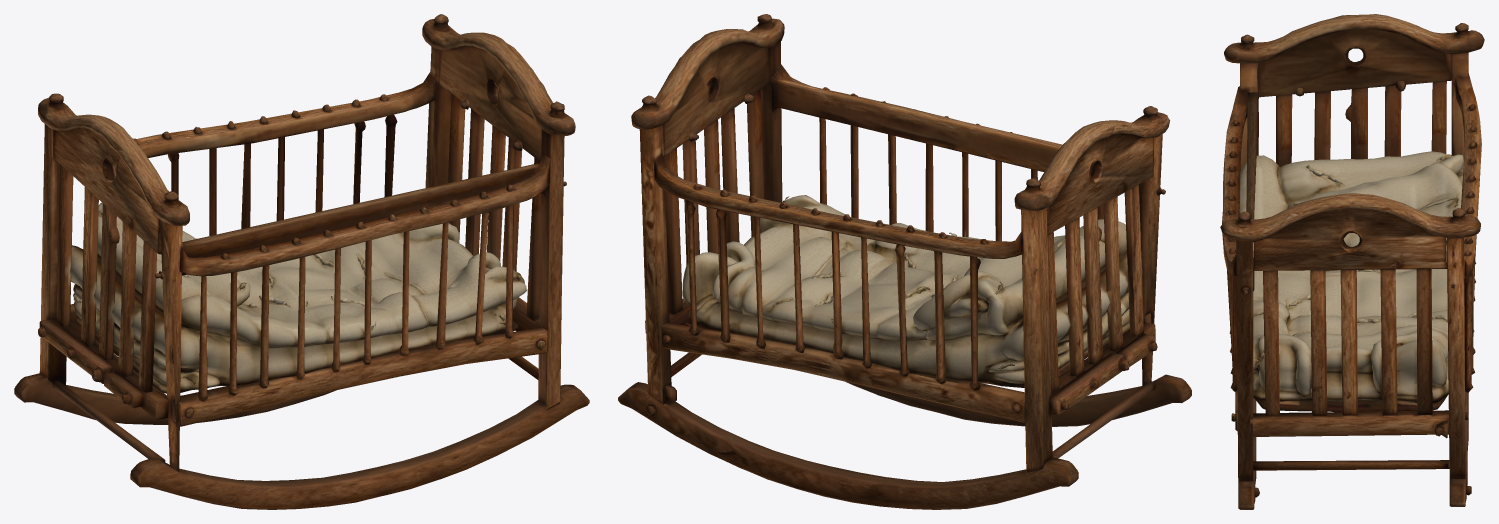
The model's file is prop-cradle-v01.glb.
The picture shows the model from 3 angles, left to right: view 1: azimuth 30°, elevation 25°; view 2: azimuth 150°, elevation 25°; view 3: azimuth 270°, elevation 25°; orthographic projection. The views are drawn at different scales.
Parts seen in each view (by area): view 1: tripo_node_24fa8a4e-e5c3-4eb4-a3a9-042966f50686; view 2: tripo_node_24fa8a4e-e5c3-4eb4-a3a9-042966f50686; view 3: tripo_node_24fa8a4e-e5c3-4eb4-a3a9-042966f50686.
Boxes of the visible parts, x1,y1,x2,y2 form: tripo_node_24fa8a4e-e5c3-4eb4-a3a9-042966f50686: [14, 14, 589, 509]; tripo_node_24fa8a4e-e5c3-4eb4-a3a9-042966f50686: [618, 14, 1191, 509]; tripo_node_24fa8a4e-e5c3-4eb4-a3a9-042966f50686: [1220, 14, 1484, 509].
Size of the model in its own units: 1.12 by 0.8867 by 0.6138.
1 material, 1 textured.
